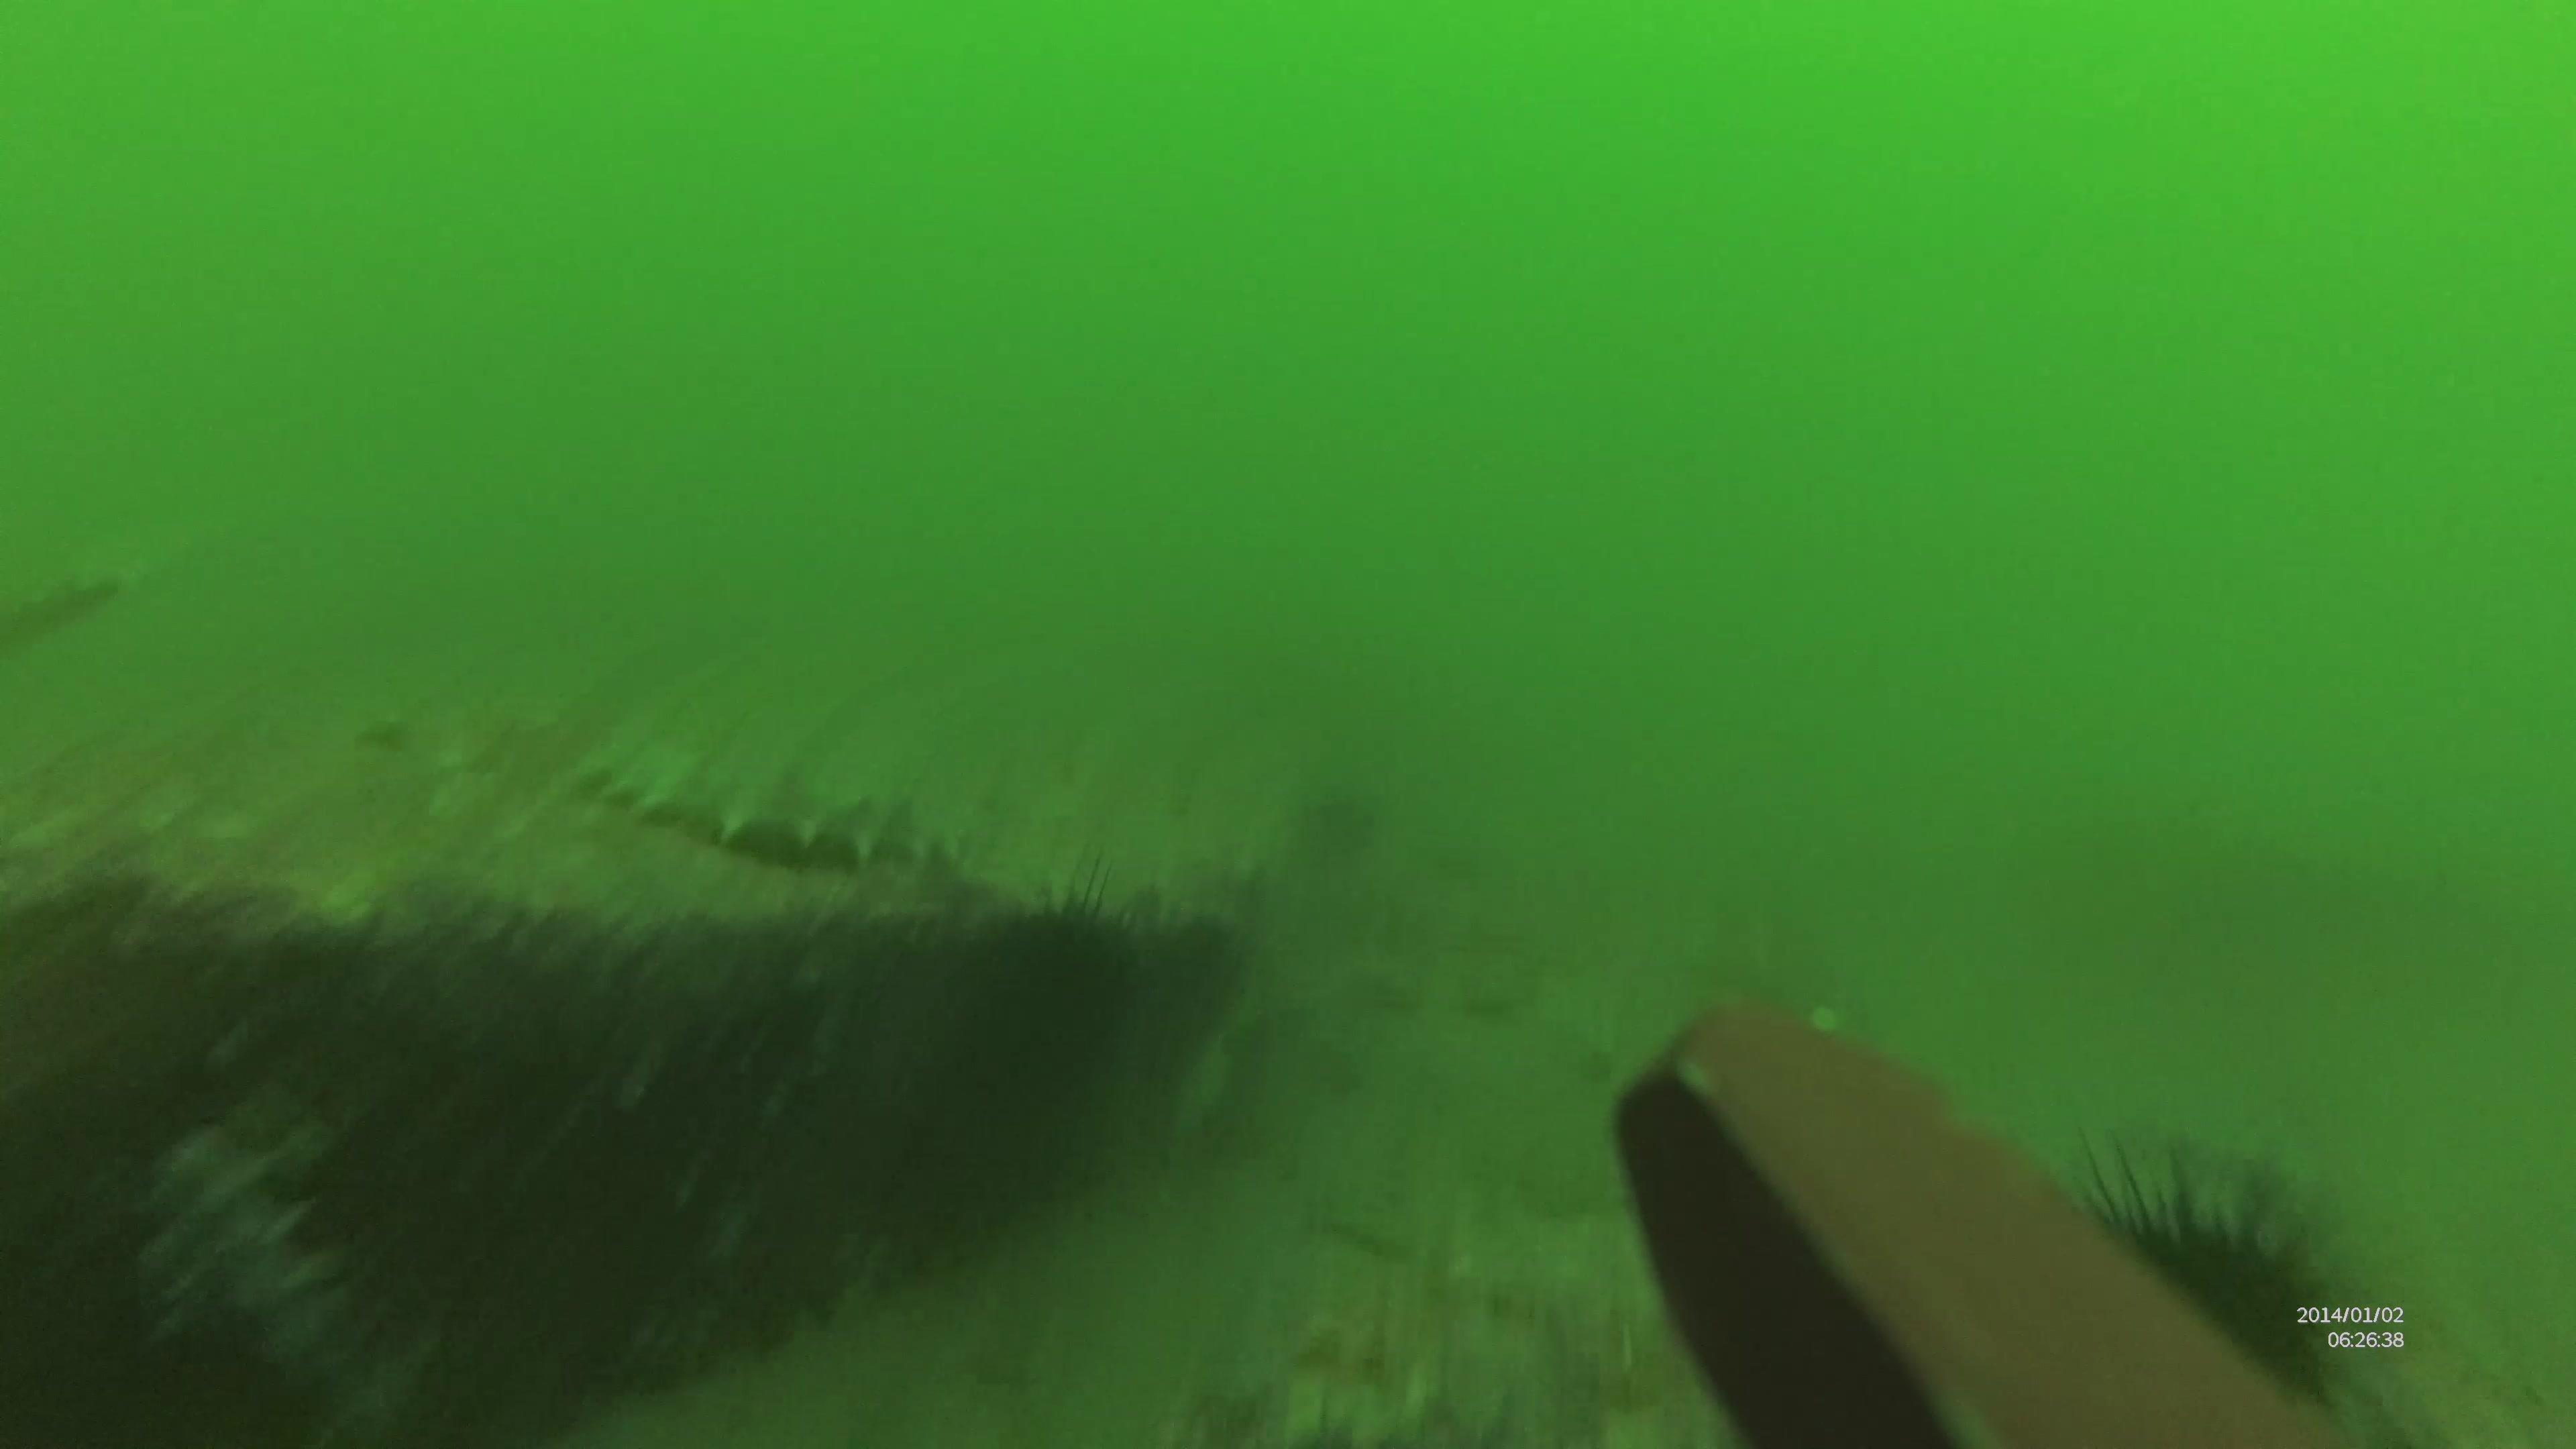echinus: (2049, 1127, 2353, 1407)
holothurian: (161, 1115, 433, 1447), (575, 747, 982, 874)
